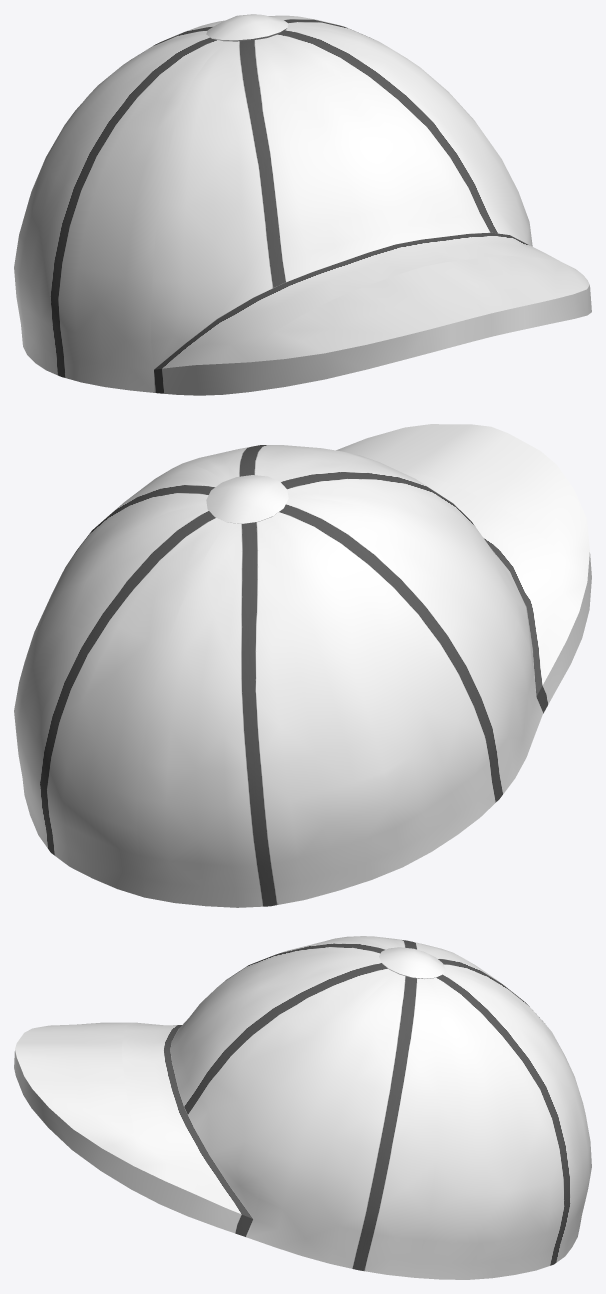
Rendered from hat_1.glb.
The picture shows the model from 3 angles, top to bottom: view 1: azimuth 30°, elevation 25°; view 2: azimuth 150°, elevation 25°; view 3: azimuth 270°, elevation 25°; orthographic projection. The views are drawn at different scales.
Parts seen in each view (by area): view 1: Mesh_4.001; view 2: Mesh_4.001; view 3: Mesh_4.001.
Boxes of the visible parts, x1,y1,x2,y2 form: Mesh_4.001: (14, 14, 591, 395); Mesh_4.001: (14, 424, 591, 907); Mesh_4.001: (14, 936, 591, 1279).
Size of the model in its own units: 57.74 by 42.22 by 80.85.
1 material, 1 textured.
